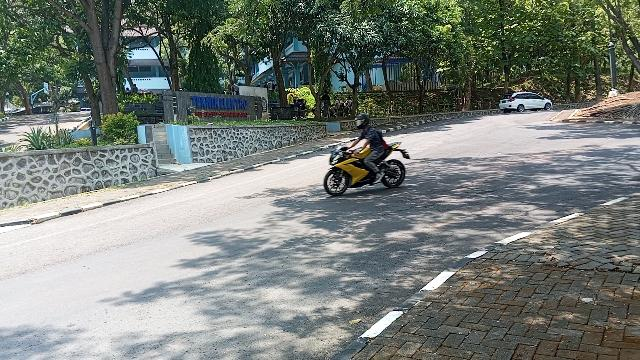helm: (355, 113, 372, 131)
motor: (324, 142, 412, 199)
